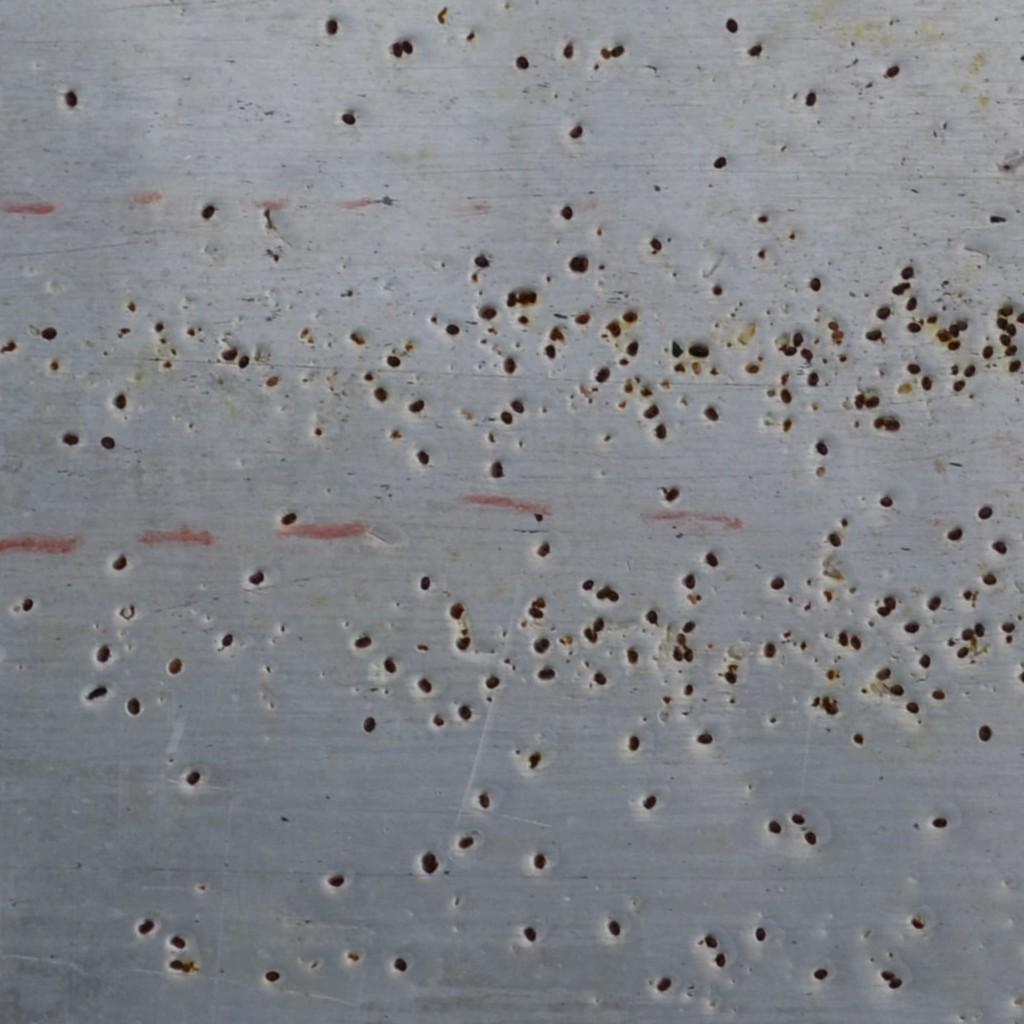varroa: (567, 248, 590, 274), (419, 847, 439, 875), (338, 106, 359, 132), (323, 868, 345, 892), (165, 651, 183, 679), (711, 149, 732, 172), (687, 340, 711, 360), (123, 694, 143, 718), (567, 116, 586, 141), (38, 322, 60, 343), (908, 910, 929, 932), (557, 200, 577, 223), (521, 922, 541, 945), (655, 972, 674, 996), (641, 789, 659, 814), (652, 418, 670, 443), (245, 567, 267, 587), (93, 640, 113, 662), (448, 598, 467, 621), (526, 605, 549, 624), (533, 631, 551, 655), (415, 672, 433, 696), (351, 628, 372, 648), (61, 88, 79, 111), (606, 916, 623, 940), (60, 429, 80, 449), (169, 931, 189, 951), (527, 749, 543, 774), (483, 668, 502, 689), (454, 634, 473, 655), (220, 345, 238, 367), (372, 383, 389, 406), (703, 400, 719, 424), (625, 731, 641, 755), (98, 433, 117, 453), (990, 536, 1009, 556), (930, 809, 949, 829), (476, 789, 494, 810), (408, 394, 425, 416), (595, 363, 612, 385), (535, 664, 557, 681), (361, 714, 377, 737), (902, 616, 921, 635), (702, 929, 721, 948), (591, 668, 610, 687), (695, 728, 715, 746), (138, 916, 156, 936), (383, 651, 398, 675), (323, 15, 340, 36), (977, 501, 994, 522), (415, 448, 432, 469), (185, 765, 202, 786), (514, 52, 530, 74), (531, 848, 547, 870), (20, 590, 34, 615), (981, 567, 999, 586), (812, 964, 830, 983), (764, 818, 783, 836), (280, 510, 298, 529), (457, 832, 476, 850), (385, 350, 402, 370), (110, 553, 127, 573), (762, 639, 778, 660), (704, 549, 720, 570), (681, 569, 697, 590), (626, 338, 641, 360), (490, 459, 505, 481), (199, 203, 217, 221), (945, 524, 963, 542), (264, 966, 282, 984), (722, 16, 739, 35), (472, 252, 491, 269), (509, 397, 526, 416), (534, 540, 553, 557), (884, 60, 900, 80), (498, 407, 514, 427), (879, 489, 894, 510), (219, 628, 234, 649), (113, 388, 127, 410), (865, 327, 883, 344), (955, 643, 973, 660), (790, 809, 808, 826), (663, 488, 681, 505), (649, 234, 665, 253), (604, 318, 620, 337), (502, 354, 518, 373), (478, 304, 497, 320), (827, 529, 842, 549), (713, 948, 727, 969), (746, 40, 763, 57), (875, 304, 891, 322), (885, 416, 901, 434), (723, 668, 739, 686), (574, 309, 592, 325), (627, 645, 640, 667), (978, 723, 993, 742), (917, 650, 932, 669), (875, 663, 890, 682), (779, 385, 793, 405), (753, 924, 767, 944), (645, 607, 659, 627), (401, 34, 414, 55), (805, 87, 818, 108), (854, 390, 867, 411), (850, 631, 863, 652), (837, 628, 850, 649), (799, 346, 815, 363), (769, 573, 785, 590), (904, 699, 920, 716), (850, 729, 866, 746), (682, 618, 698, 635), (622, 307, 638, 324), (642, 403, 659, 419), (592, 614, 608, 631), (168, 957, 185, 973), (393, 955, 409, 972), (458, 703, 474, 720), (387, 38, 402, 56), (892, 279, 910, 294), (883, 593, 898, 611), (875, 604, 893, 619), (605, 585, 620, 603), (583, 626, 598, 644), (961, 626, 977, 642), (1000, 618, 1017, 633), (927, 594, 942, 611), (444, 320, 461, 335), (963, 361, 977, 379), (806, 369, 820, 387), (814, 439, 828, 457), (880, 968, 898, 982), (505, 287, 517, 308), (612, 41, 625, 60), (599, 43, 612, 62), (973, 620, 986, 639), (418, 574, 431, 593), (238, 350, 250, 370), (997, 301, 1013, 316), (935, 327, 951, 342), (803, 830, 819, 845), (673, 645, 685, 665), (711, 280, 726, 296), (580, 575, 595, 591), (952, 378, 966, 395), (888, 682, 905, 696), (921, 374, 933, 393), (517, 287, 529, 306), (1007, 357, 1021, 373), (906, 319, 922, 333), (901, 263, 914, 280), (793, 328, 804, 348), (545, 342, 557, 360), (947, 338, 961, 353), (866, 395, 880, 410), (931, 686, 945, 701), (154, 318, 167, 334), (906, 361, 922, 374), (782, 344, 798, 357), (906, 295, 918, 312), (595, 583, 607, 600), (1004, 343, 1019, 356), (517, 310, 530, 325), (781, 415, 793, 431), (756, 210, 768, 226), (684, 645, 694, 664), (949, 321, 960, 338), (810, 275, 821, 292), (526, 286, 537, 303), (956, 318, 969, 332), (562, 43, 574, 58), (982, 345, 994, 360), (50, 357, 61, 373), (363, 366, 374, 382), (998, 332, 1011, 345), (675, 631, 688, 644), (874, 416, 885, 431), (926, 313, 939, 325), (889, 978, 901, 991), (997, 315, 1007, 330), (556, 327, 566, 342), (1007, 322, 1017, 336), (549, 327, 558, 341), (1016, 308, 1023, 324)
